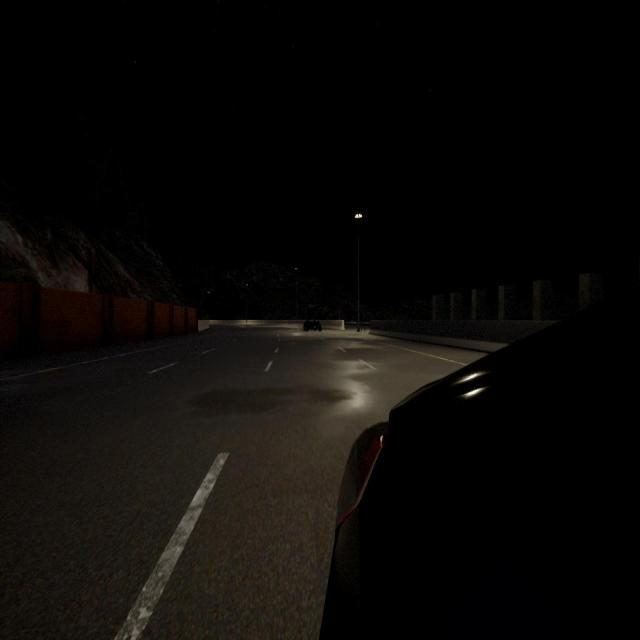Vehicle: (320, 286, 640, 637), (304, 319, 322, 331)
